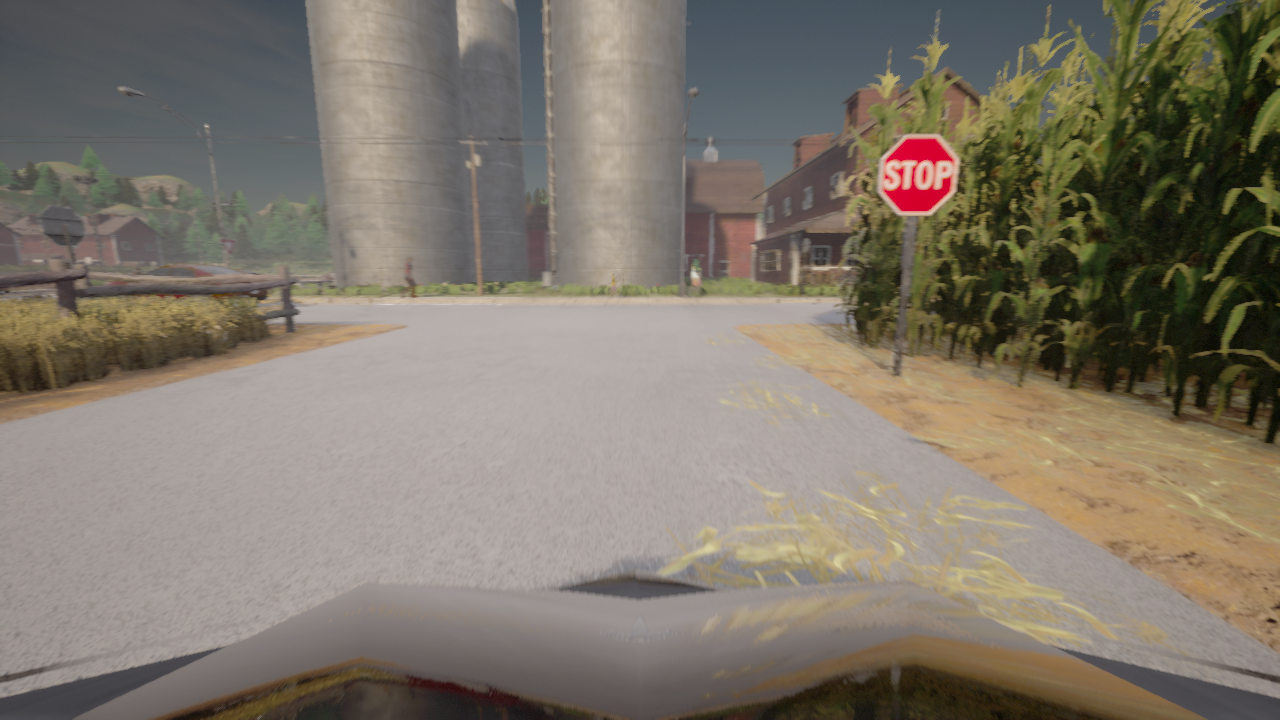cyclist: (0, 569, 1279, 719), (106, 263, 270, 303), (237, 269, 260, 274), (320, 272, 332, 279), (0, 290, 10, 297)
pedestrian: (687, 255, 703, 296), (401, 256, 417, 297), (547, 271, 562, 296), (609, 272, 620, 298)
